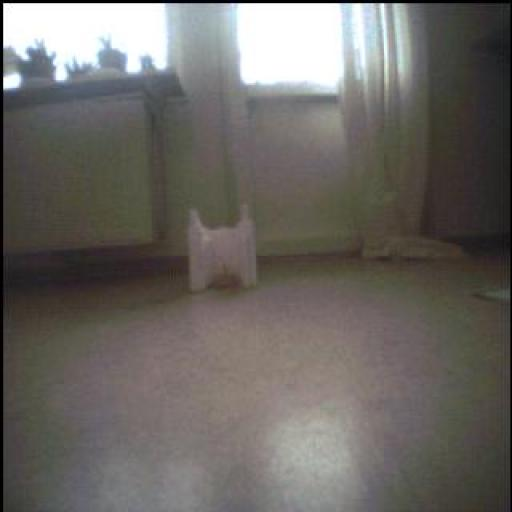Basket: (217, 271, 235, 290)
